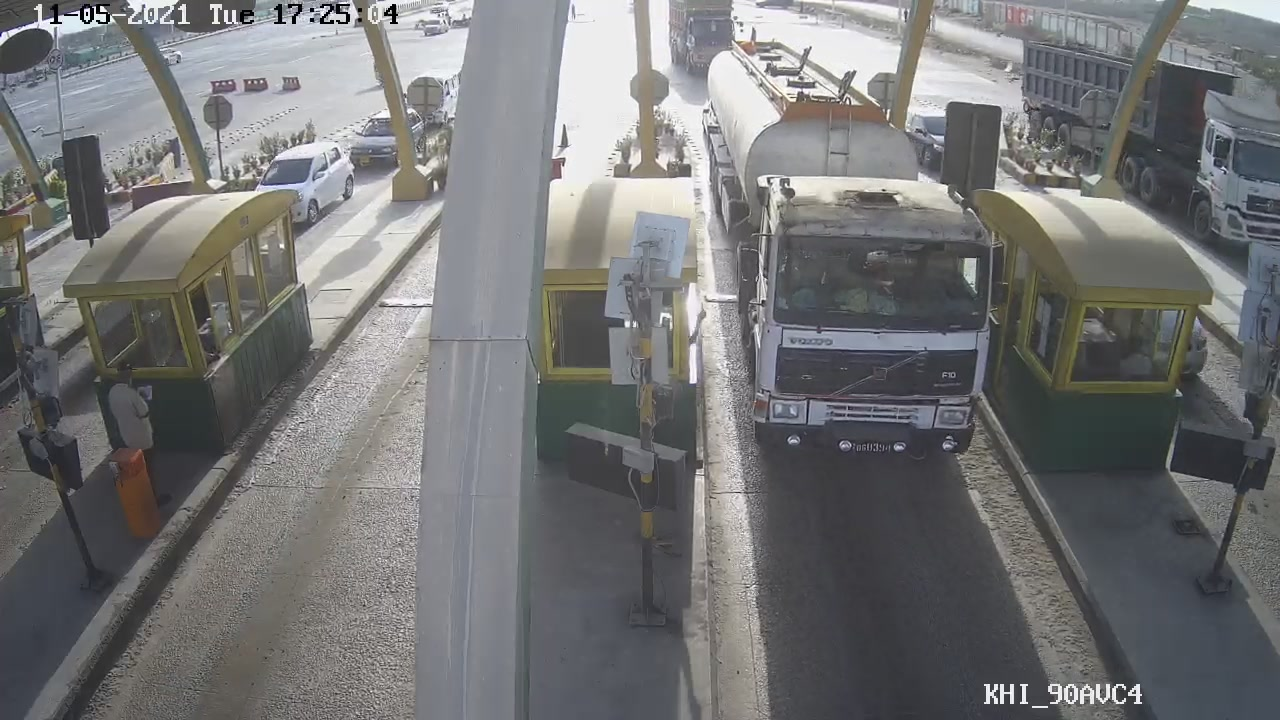F6: (713, 38, 1000, 463)
